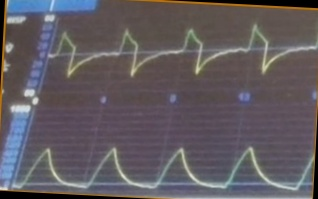Normal Flow: (51, 21, 316, 84)
Normal Volume: (14, 142, 313, 191)
